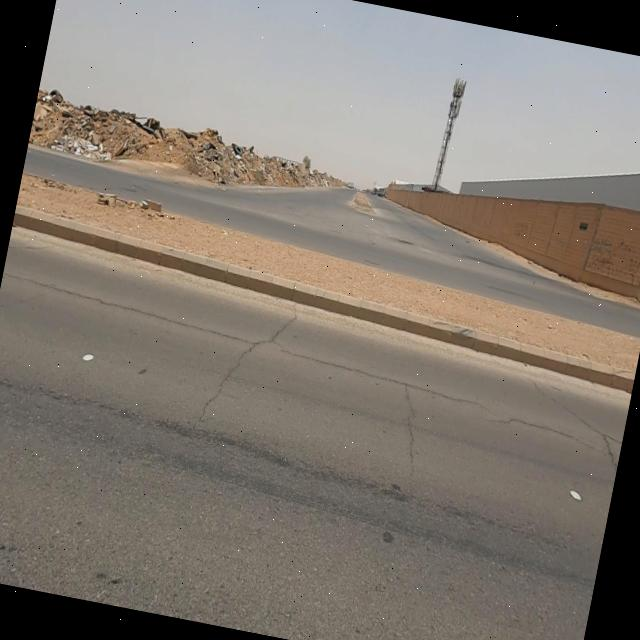Graffiti: (583, 234, 640, 287), (513, 220, 532, 246)
